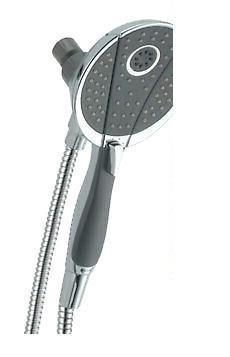Ducha: (26, 19, 170, 337)
